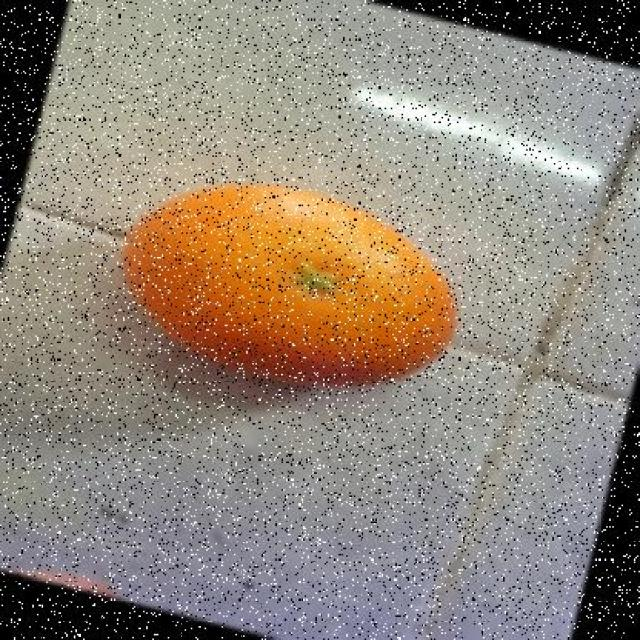Orange: (120, 178, 458, 390)
